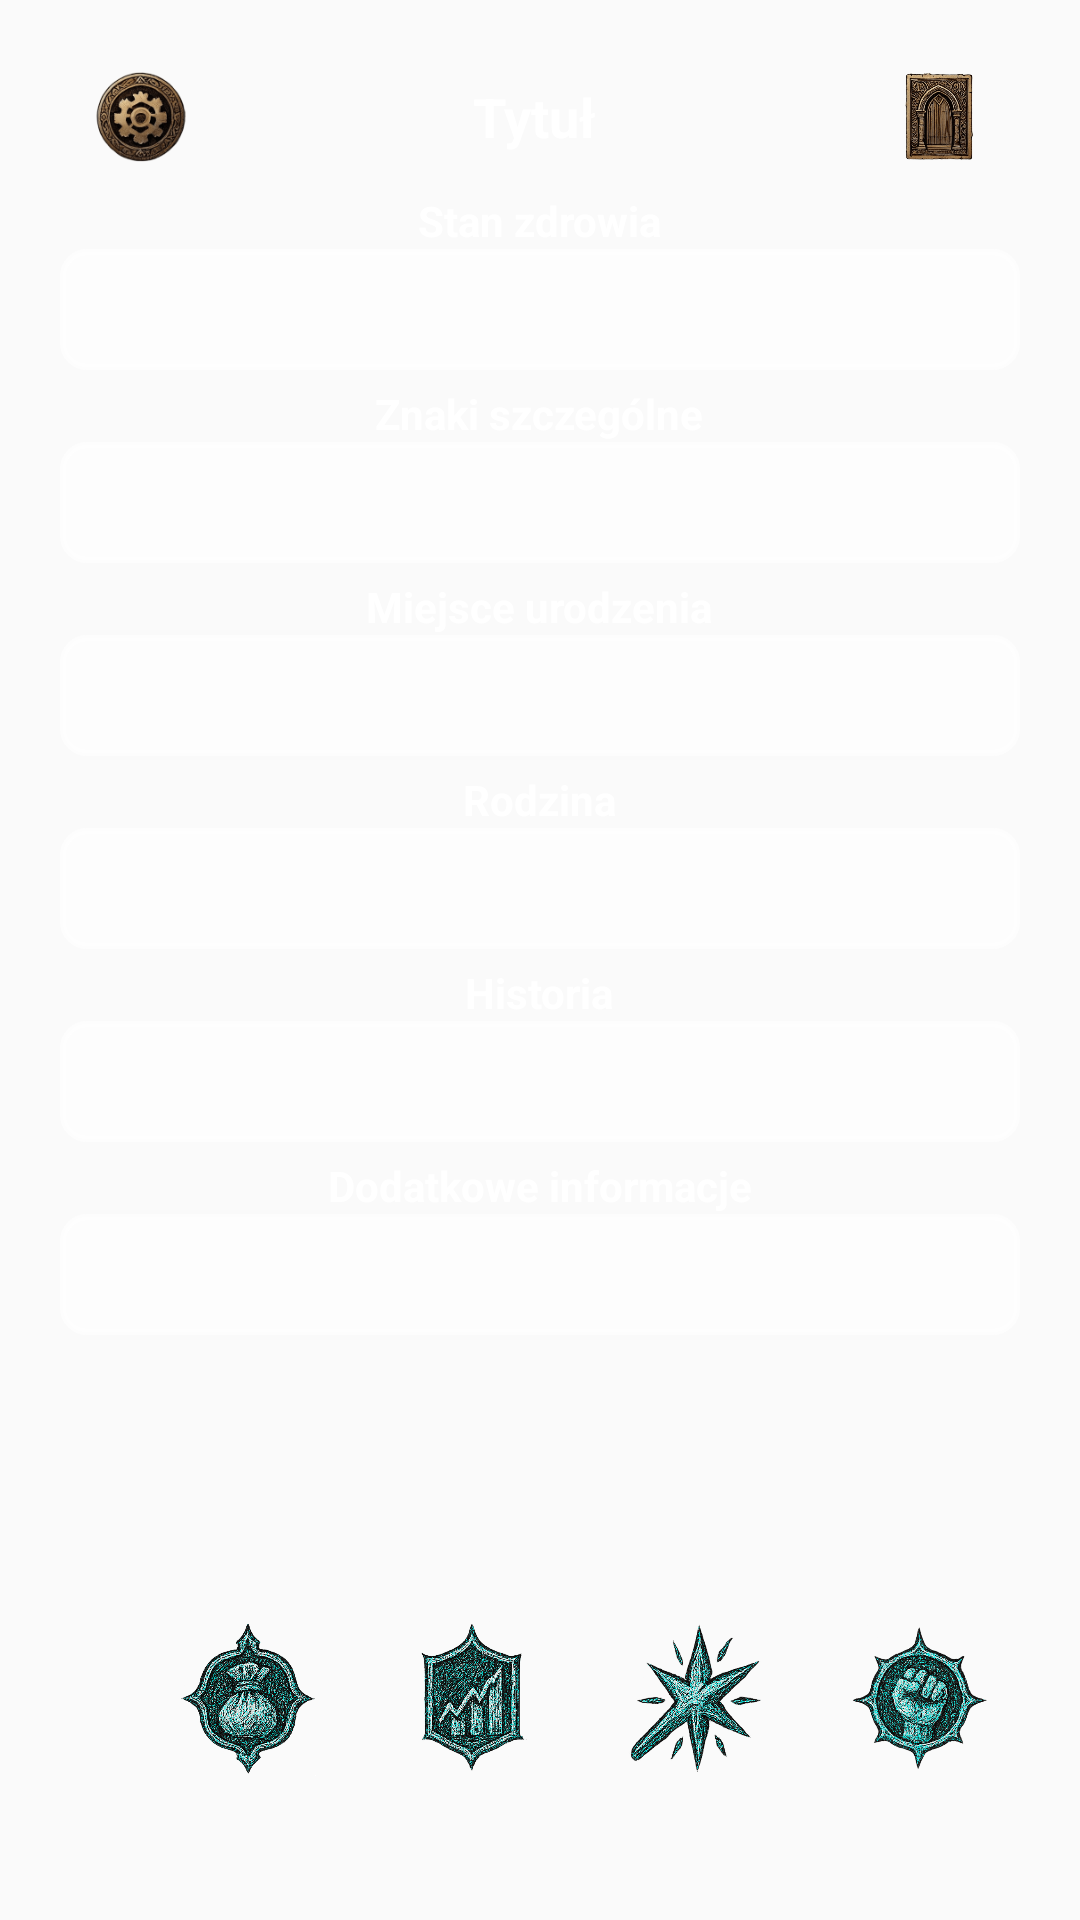

Named icons in this screenshot (1080 x 1920) and their centers, [x,y]:
exit: [939,116]
inventory: [248,1699]
magic: [696,1698]
settings: [141,117]
skills: [920,1698]
stats: [472,1697]
